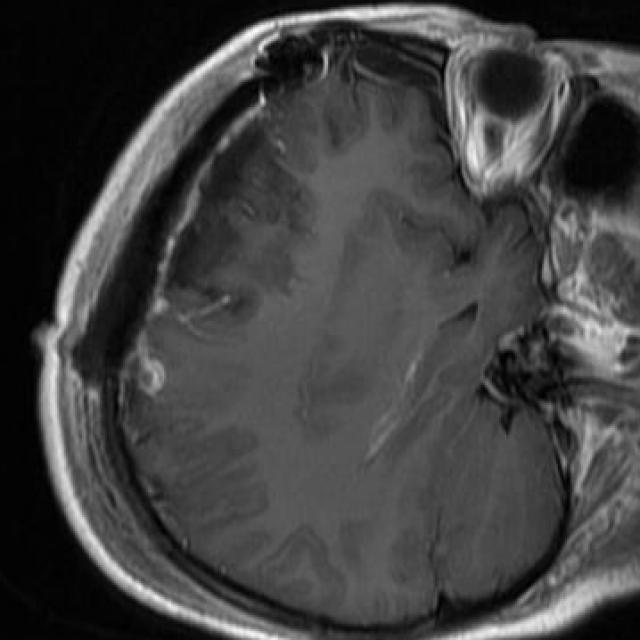glioma: (164, 121, 314, 319)
